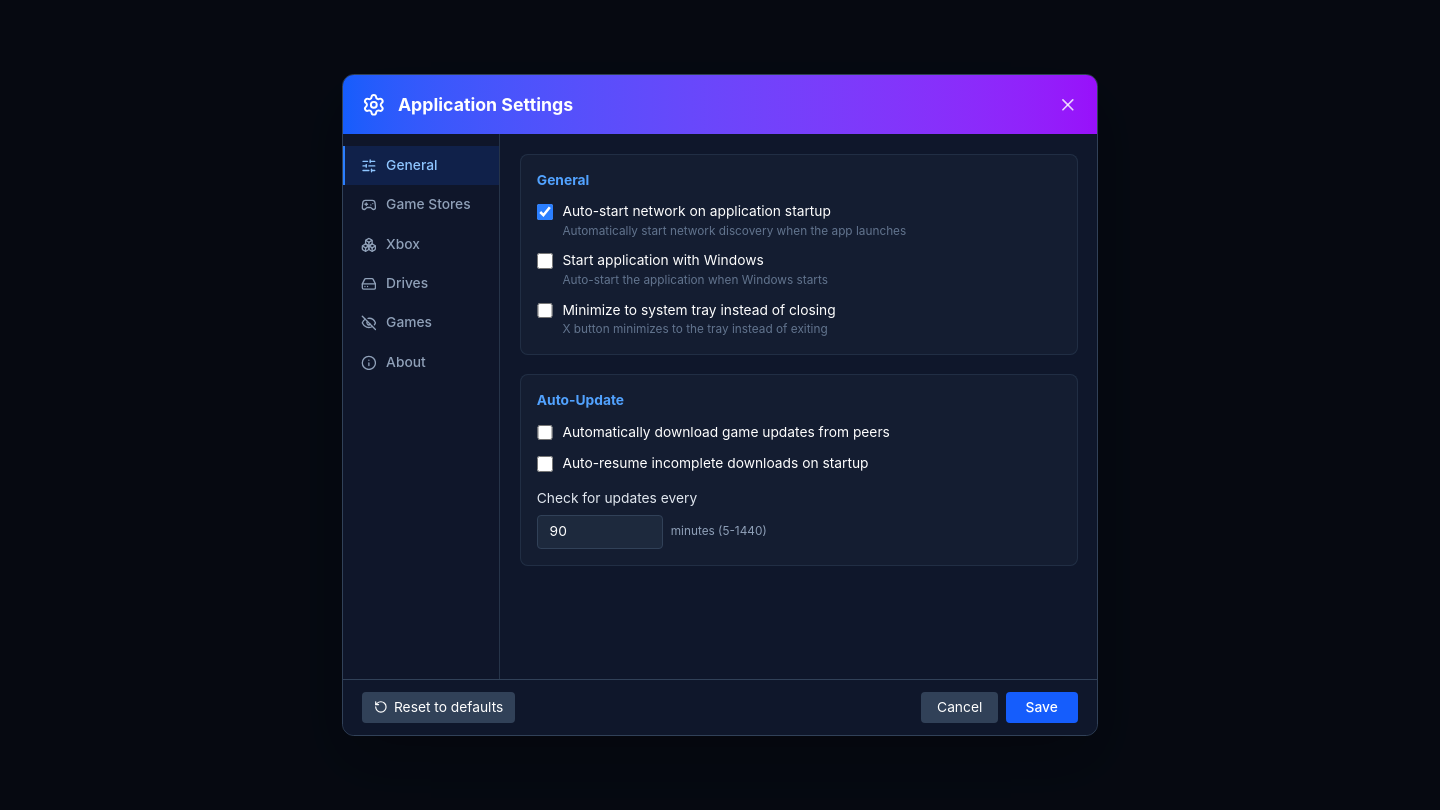
SettingsModal › Reset to defaults restores DEFAULTS
Expected: the checkbox labelled "Auto-start network" is checked, [537,204,553,220]
Click the button "Reset to defaults" at x=439, y=707, box [362,692,515,723]
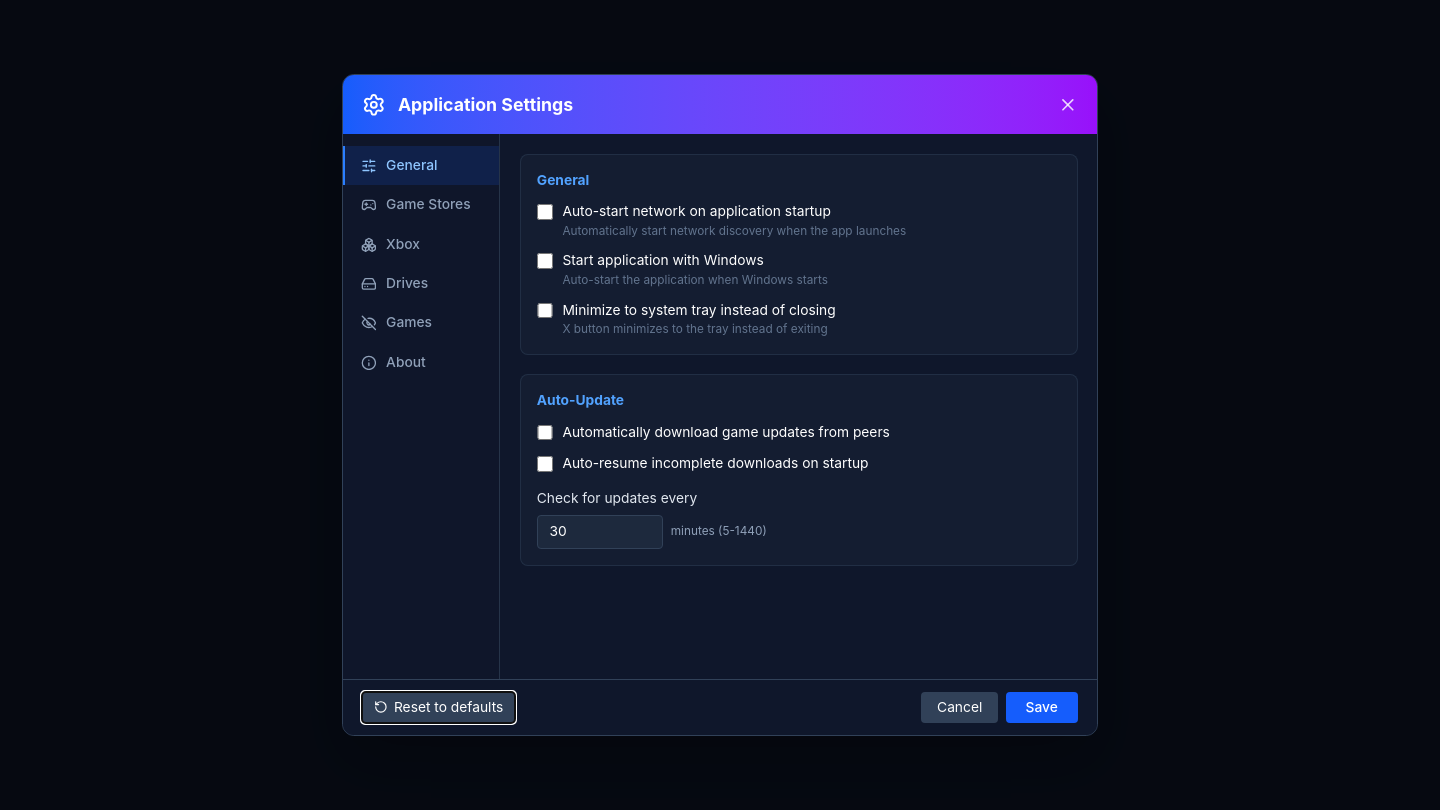
Expected: the checkbox labelled "Auto-start network" is not checked, [537,204,553,220]
Expected: the number field showing "30" holds "30", [537,515,663,549]
